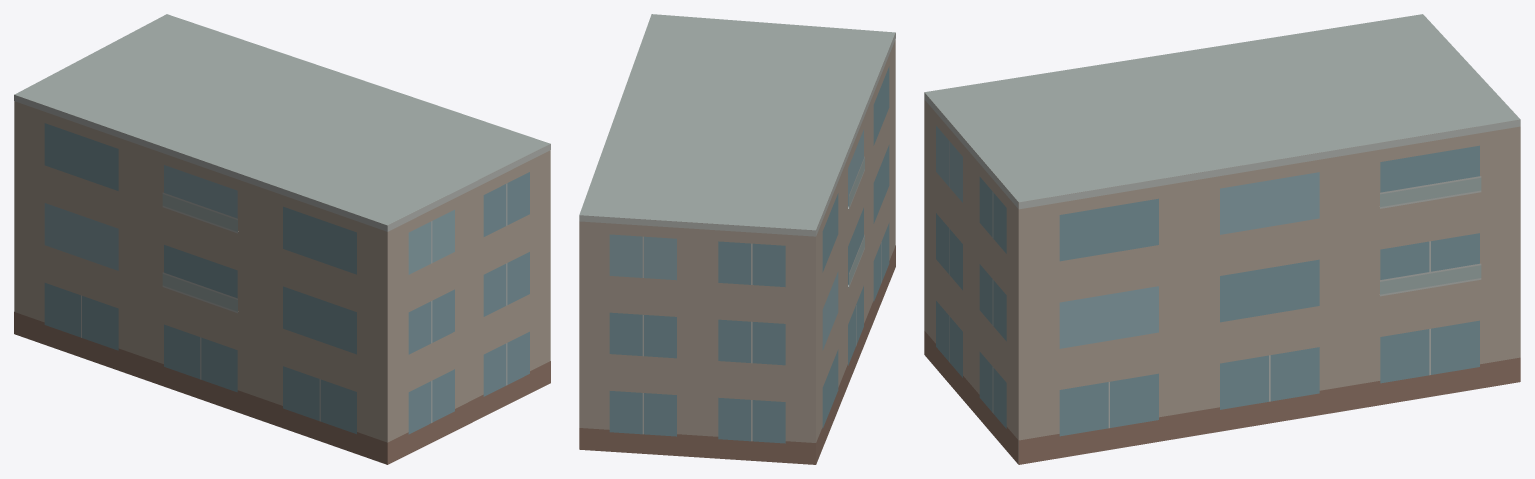
File: survey-upis-32697643.glb
The picture shows the model from 3 angles, left to right: view 1: azimuth 30°, elevation 25°; view 2: azimuth 150°, elevation 25°; view 3: azimuth 270°, elevation 25°; orthographic projection. The views are drawn at different scales.
Parts seen in each view (by area): view 1: survey-upis-32697643.tmp; view 2: survey-upis-32697643.tmp; view 3: survey-upis-32697643.tmp.
Boxes of the visible parts, x1=… form: survey-upis-32697643.tmp: x1=14, y1=14, x2=550, y2=464; survey-upis-32697643.tmp: x1=579, y1=14, x2=895, y2=464; survey-upis-32697643.tmp: x1=924, y1=14, x2=1520, y2=464.
Size of the model in its own units: 14.1 by 9.15 by 18.85.
